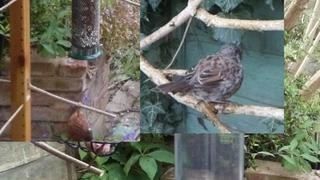dunnock: (150, 40, 244, 114)
